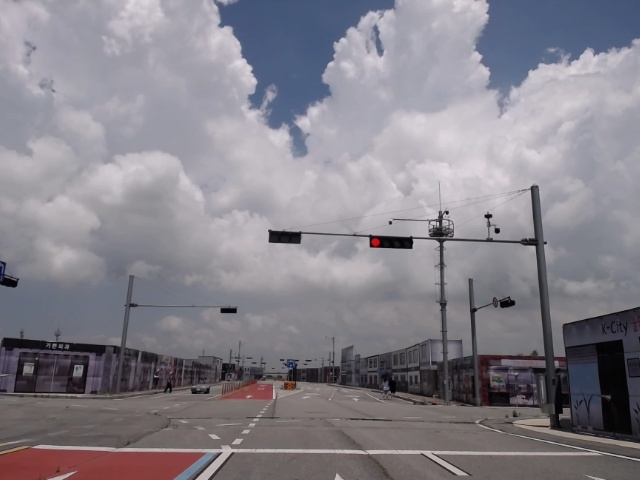red_4: (370, 236, 412, 249)
